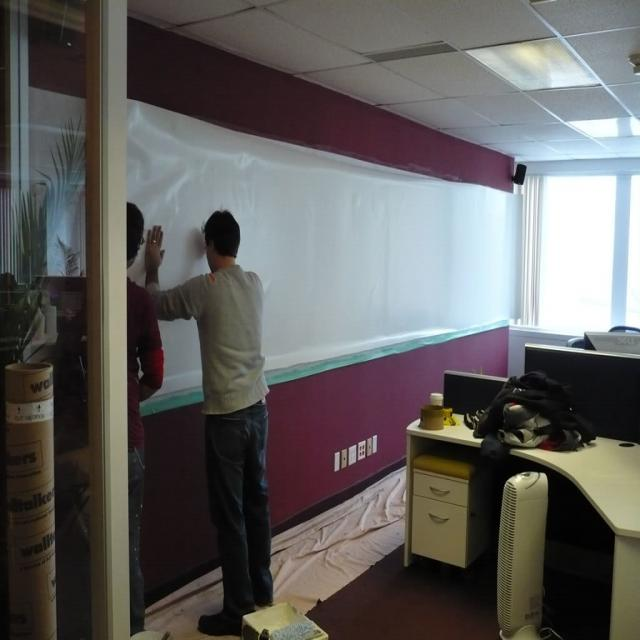desk: (389, 358, 634, 635)
person: (137, 207, 277, 635), (127, 202, 165, 630)
